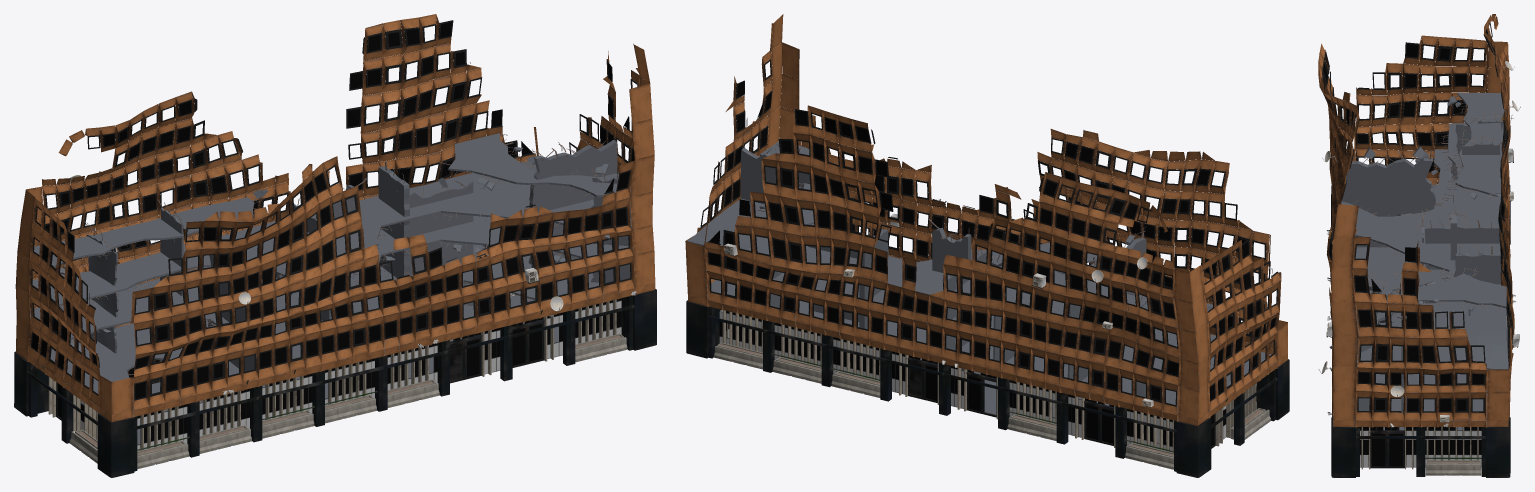
File: 03_present_03.fbx
The picture shows the model from 3 angles, left to right: view 1: azimuth 30°, elevation 25°; view 2: azimuth 150°, elevation 25°; view 3: azimuth 270°, elevation 25°; orthographic projection. The views are drawn at different scales.
Visible parts, largest first — view 1: 03_ground_floor_wall_01.010; view 2: 03_ground_floor_wall_01.010; view 3: 03_ground_floor_wall_01.010.
Boxes of the visible parts, left/top/right/bottom form: 03_ground_floor_wall_01.010: left=14, top=14, right=656, bottom=477; 03_ground_floor_wall_01.010: left=685, top=14, right=1289, bottom=477; 03_ground_floor_wall_01.010: left=1318, top=14, right=1520, bottom=477.
Bounding box in the file's own units: 5199 × 2605 × 1773.
